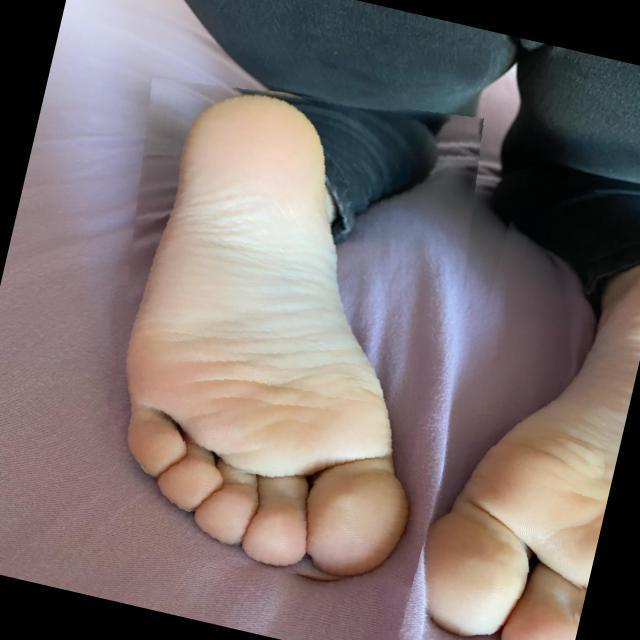Barefoots: (126, 59, 406, 600), (410, 259, 640, 640)
